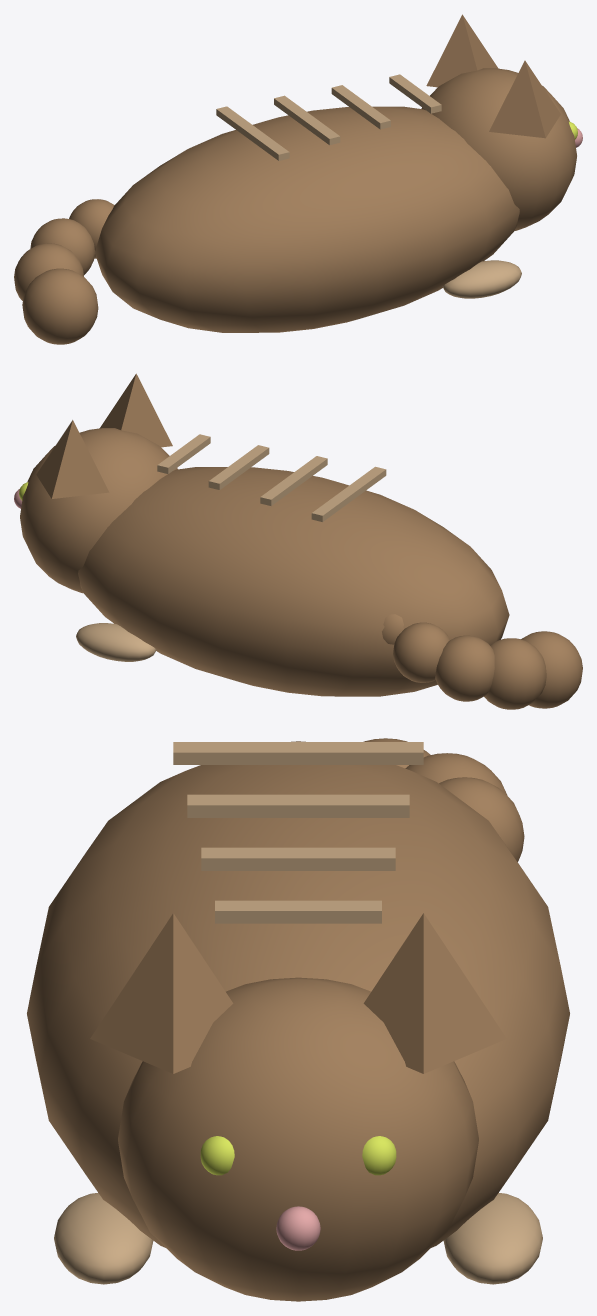
File: uyuyan_kedi.glb
3 renders of one model, top to bottom at view 1: azimuth 30°, elevation 25°; view 2: azimuth 150°, elevation 25°; view 3: azimuth 270°, elevation 25°, orthographic. The views are drawn at different scales.
Parts seen in each view (by area): view 1: Body, Head, Tail, Ear, Ear.001, Paw, Tail.001, Tail.002, Stripe, Tail.003, Stripe.001, Stripe.002 (+1 smaller); view 2: Body, Head, Tail.001, Tail.002, Ear.001, Tail, Tail.003, Ear, Paw.001, Stripe, Stripe.001, Stripe.002 (+2 smaller); view 3: Body, Head, Ear, Ear.001, Paw, Paw.001, Stripe, Stripe.001, Stripe.002, Stripe.003, Tail.003, Tail.002 (+3 smaller).
Part boxes in pixels (box(x1,y1,x2,y2)): Body: box(94, 106, 519, 332); Head: box(421, 68, 576, 230); Tail: box(22, 268, 98, 344); Ear: box(489, 60, 560, 138); Ear.001: box(426, 14, 498, 87); Paw: box(442, 260, 521, 298); Tail.001: box(14, 243, 83, 300); Tail.002: box(30, 218, 94, 274); Stripe: box(216, 106, 289, 160); Tail.003: box(69, 199, 114, 258); Stripe.001: box(274, 95, 340, 145); Stripe.002: box(331, 85, 390, 129); Body: box(78, 467, 509, 696); Head: box(20, 428, 177, 593); Tail.001: box(484, 638, 546, 709); Tail.002: box(435, 635, 494, 701); Ear.001: box(36, 420, 109, 498); Tail: box(521, 631, 582, 708); Tail.003: box(393, 622, 449, 682); Ear: box(100, 373, 172, 447); Paw.001: box(76, 623, 156, 661); Stripe: box(311, 466, 386, 521); Stripe.001: box(260, 456, 327, 505); Stripe.002: box(208, 445, 269, 489); Body: box(27, 765, 569, 1247); Head: box(118, 977, 478, 1301); Ear: box(90, 913, 233, 1073); Ear.001: box(363, 913, 506, 1073); Paw: box(54, 1193, 153, 1284); Paw.001: box(443, 1193, 542, 1284); Stripe: box(173, 742, 423, 764); Stripe.001: box(187, 794, 409, 817); Stripe.002: box(201, 847, 395, 870); Stripe.003: box(215, 900, 381, 923); Tail.003: box(439, 777, 524, 861); Tail.002: box(405, 753, 507, 795).
Size of the model in its own units: 0.921 by 0.3626 by 0.391.
